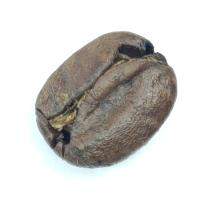NG: (49, 42, 147, 138)
